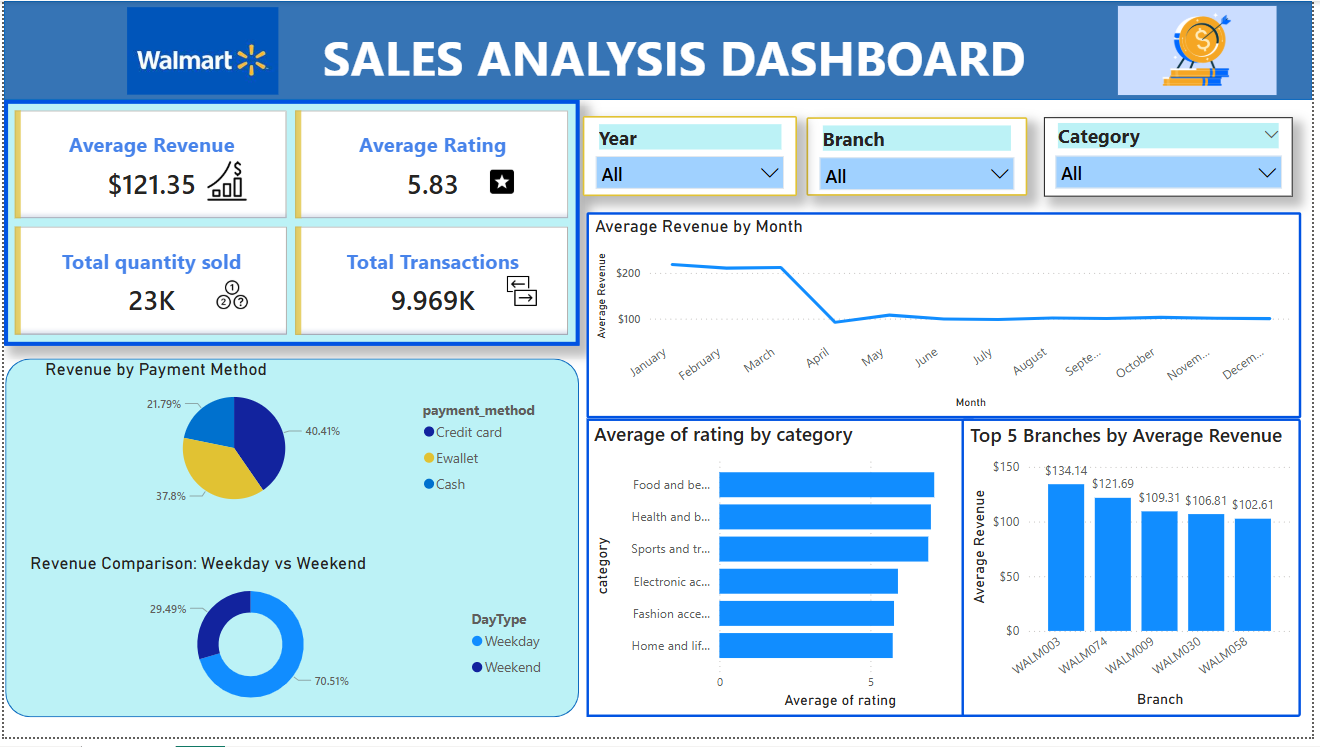

The dashboard page shown, as its layout file describes it:
{"tool":"powerbi","page":{"name":"Page 1","canvas":[1280,720],"ordinal":0},"visuals":[{"type":"cardVisual","fields":{"Data":["Avg(Walmart_Cleaned_Data.total_price)","Avg(Walmart_Cleaned_Data.rating)","Sum(Walmart_Cleaned_Data.quantity)","CountNonNull(Walmart_Cleaned_Data.invoice_id)"]},"box":[0,96.9,563,240.9],"z":0},{"type":"pieChart","title":"Revenue by Payment Method","fields":{"Category":["Walmart_Cleaned_Data.payment_method"],"Y":["Sum(Walmart_Cleaned_Data.total_price)"]},"box":[35.3,349.7,505,156.5],"z":0,"group":"g1"},{"type":"image","box":[181.1,151.5,73.9,49.3],"z":1000},{"type":"donutChart","title":"Revenue Comparison: Weekday vs Weekend","fields":{"Category":["Walmart_Cleaned_Data.DayType"],"Y":["Sum(Walmart_Cleaned_Data.total_price)"]},"box":[20.8,539.3,518.3,161.4],"z":1000,"group":"g1"},{"type":"image","box":[480.5,258.7,51.7,49.3],"z":2000},{"type":"clusteredBarChart","fields":{"Category":["Walmart_Cleaned_Data.category"],"Y":["Avg(Walmart_Cleaned_Data.rating)"]},"box":[569.3,408.4,378.2,292.3],"z":2000,"group":"g1"},{"type":"image","box":[192.2,266.1,62.8,41.9],"z":3000},{"type":"clusteredColumnChart","title":"Top 5 Branches by Average Revenue","fields":{"Category":["Walmart_Cleaned_Data.Branch"],"Y":["Avg(Walmart_Cleaned_Data.total_price)"]},"box":[936.6,408.4,332.3,292.3],"z":3000,"group":"g1"},{"type":"image","box":[468.1,146.6,38.2,60.4],"z":4000},{"type":"lineChart","fields":{"Category":["Walmart_Cleaned_Data.date.Variation.Date Hierarchy.Month"],"Y":["Avg(Walmart_Cleaned_Data.total_price)"]},"box":[569.3,206.7,699.5,201.8],"z":4000,"group":"g1"},{"type":"slicer","fields":{"Values":["Walmart_Cleaned_Data.Branch"]},"box":[784.5,114.2,216,77],"z":4500},{"type":"shape","box":[1.2,349.7,561.3,351],"z":5000},{"type":"slicer","fields":{"Values":["Walmart_Cleaned_Data.date.Variation.Date Hierarchy.Year"]},"box":[566,113,209.8,78.2],"z":6000},{"type":"slicer","fields":{"Values":["Walmart_Cleaned_Data.category"]},"box":[1017.6,113.7,243.5,77.3],"z":8000},{"type":"shape","box":[0,0,1280,96.9],"z":9000},{"type":"image","box":[1.2,1.2,386,95.6],"z":10000},{"type":"textbox","box":[306.6,17.4,847.8,60.8],"z":11000},{"type":"group","id":"g1","title":"Group 1","box":[20.8,0,1258.3,700.7],"z":12000},{"type":"image","box":[1055.9,0,223.2,96.8],"z":12501,"group":"g1"}]}

Visuals, with their boxes in screenshot pixels (x1, y1, x2, y2), scaled from the page's 1280x720 canvas onto the 1320x747 screenshot:
cardVisual - Avg(Walmart_Cleaned_Data.total_price) x Avg(Walmart_Cleaned_Data.rating): bbox(0, 101, 581, 350)
"Revenue by Payment Method" pieChart: bbox(36, 363, 557, 525)
image: bbox(187, 157, 263, 208)
"Revenue Comparison: Weekday vs Weekend" donutChart: bbox(21, 560, 556, 727)
image: bbox(496, 268, 549, 320)
clusteredBarChart - Walmart_Cleaned_Data.category x Avg(Walmart_Cleaned_Data.rating): bbox(587, 424, 977, 727)
image: bbox(198, 276, 263, 320)
"Top 5 Branches by Average Revenue" clusteredColumnChart: bbox(966, 424, 1309, 727)
image: bbox(483, 152, 522, 215)
lineChart - Walmart_Cleaned_Data.date.Variation.Date Hierarchy.Month x Avg(Walmart_Cleaned_Data.total_price): bbox(587, 214, 1308, 424)
slicer - Walmart_Cleaned_Data.Branch: bbox(809, 118, 1032, 198)
shape: bbox(1, 363, 580, 727)
slicer - Walmart_Cleaned_Data.date.Variation.Date Hierarchy.Year: bbox(584, 117, 800, 198)
slicer - Walmart_Cleaned_Data.category: bbox(1049, 118, 1301, 198)
shape: bbox(0, 0, 1319, 101)
image: bbox(1, 1, 399, 100)
textbox: bbox(316, 18, 1190, 81)
"Group 1" group: bbox(21, 0, 1319, 727)
image: bbox(1089, 0, 1319, 100)
